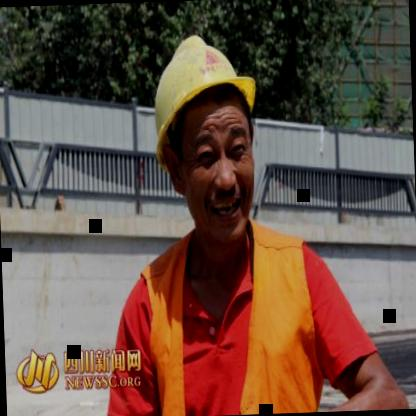helmet: (137, 8, 274, 260)
